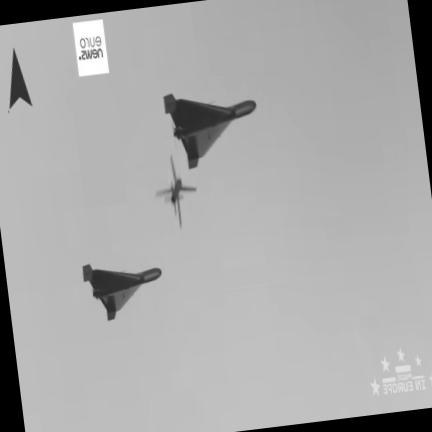Shahed: (163, 94, 254, 168), (82, 264, 160, 321)
